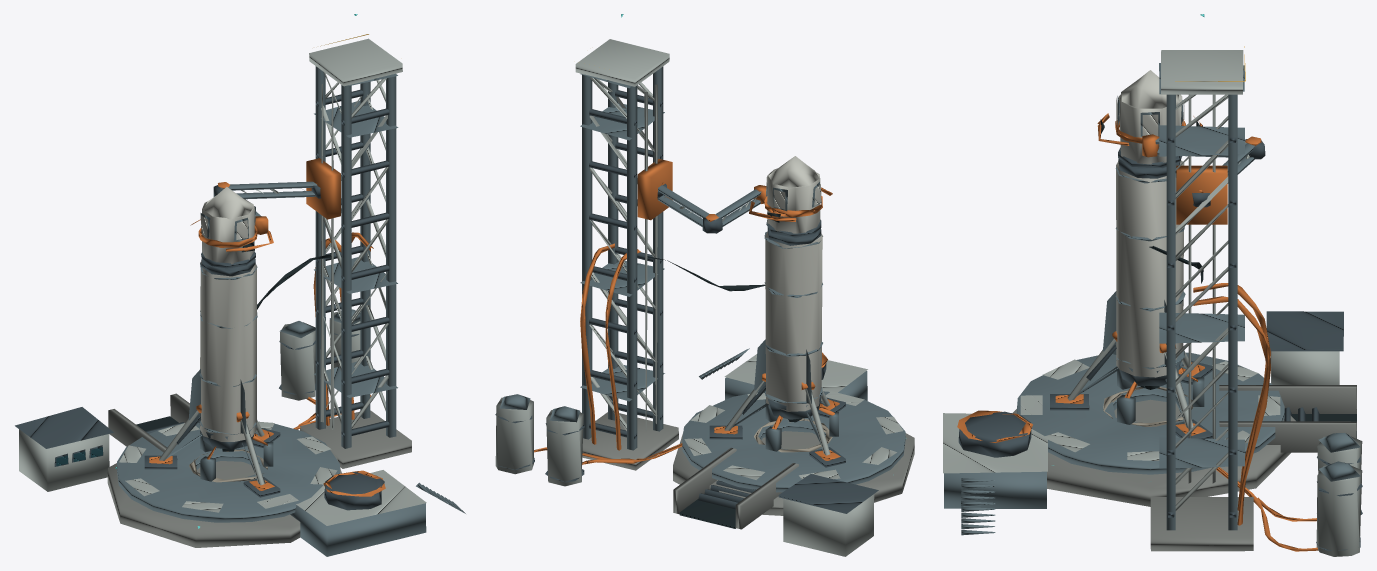
The model's file is hugin_launchpad_d0_lod2.glb.
3 renders of one model, left to right at view 1: azimuth 30°, elevation 25°; view 2: azimuth 150°, elevation 25°; view 3: azimuth 270°, elevation 25°, orthographic. The views are drawn at different scales.
Parts seen in each view (by area): view 1: HUGIN_LAUNCHPAD_LOD2_STATIC_GEOMETRY; view 2: HUGIN_LAUNCHPAD_LOD2_STATIC_GEOMETRY; view 3: HUGIN_LAUNCHPAD_LOD2_STATIC_GEOMETRY.
Part boxes in pixels (bbox=[...]): HUGIN_LAUNCHPAD_LOD2_STATIC_GEOMETRY: bbox=[15, 14, 465, 556]; HUGIN_LAUNCHPAD_LOD2_STATIC_GEOMETRY: bbox=[495, 14, 914, 556]; HUGIN_LAUNCHPAD_LOD2_STATIC_GEOMETRY: bbox=[943, 14, 1362, 556].
Size of the model in its own units: 28.13 by 33.1 by 24.38.
